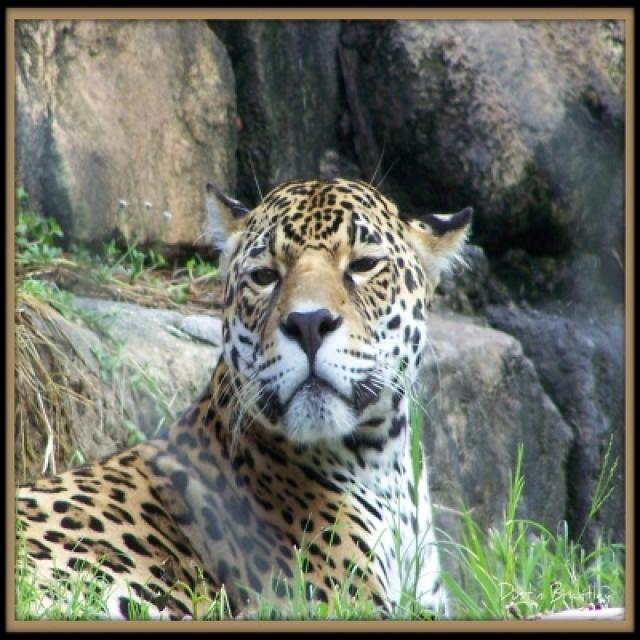not_pig: (14, 171, 473, 619)
